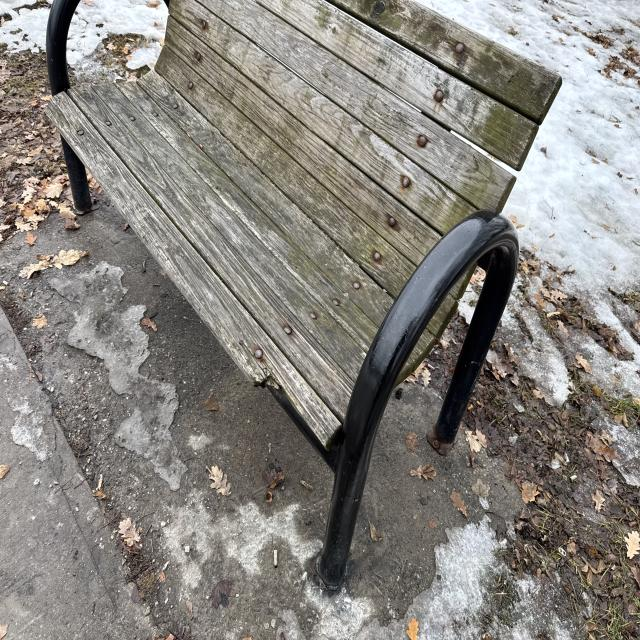Bench: (56, 3, 558, 556)
